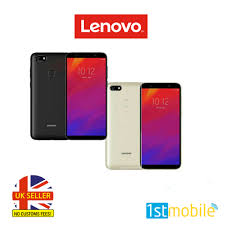lenovo: (138, 80, 183, 172), (102, 79, 139, 172)
